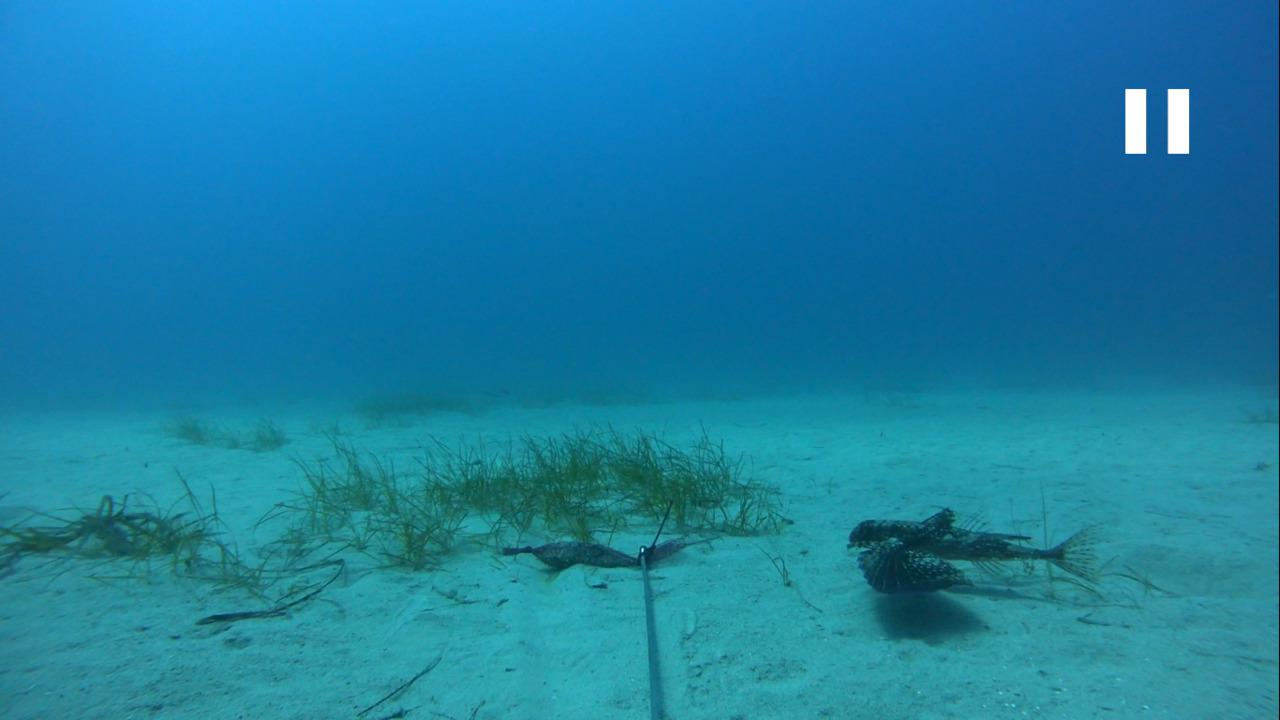dactylopterus: (836, 502, 1113, 606)
